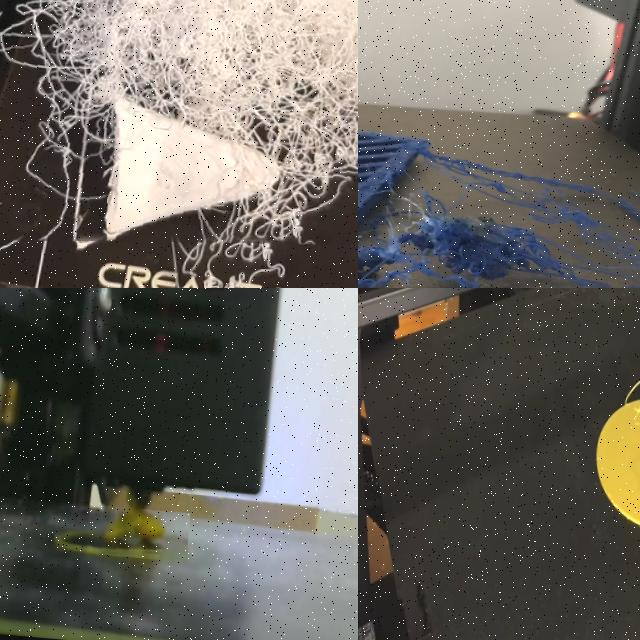spaghetti: (0, 0, 358, 284), (358, 112, 640, 288), (94, 507, 188, 556)
